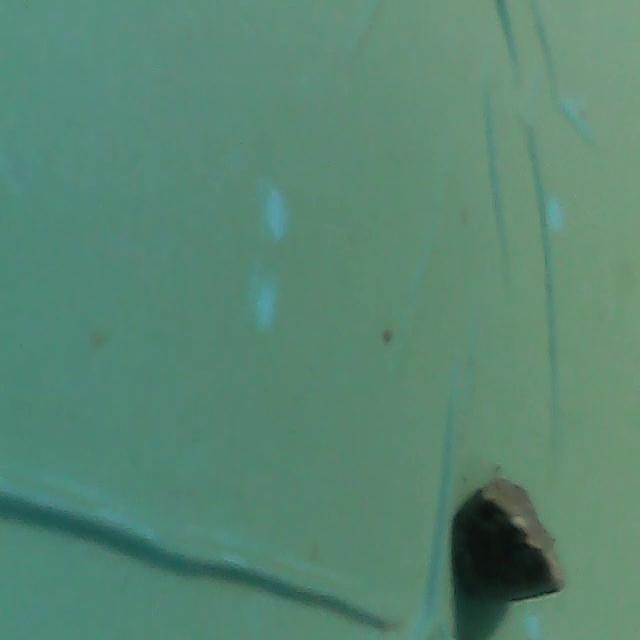rock: (445, 463, 575, 621)
